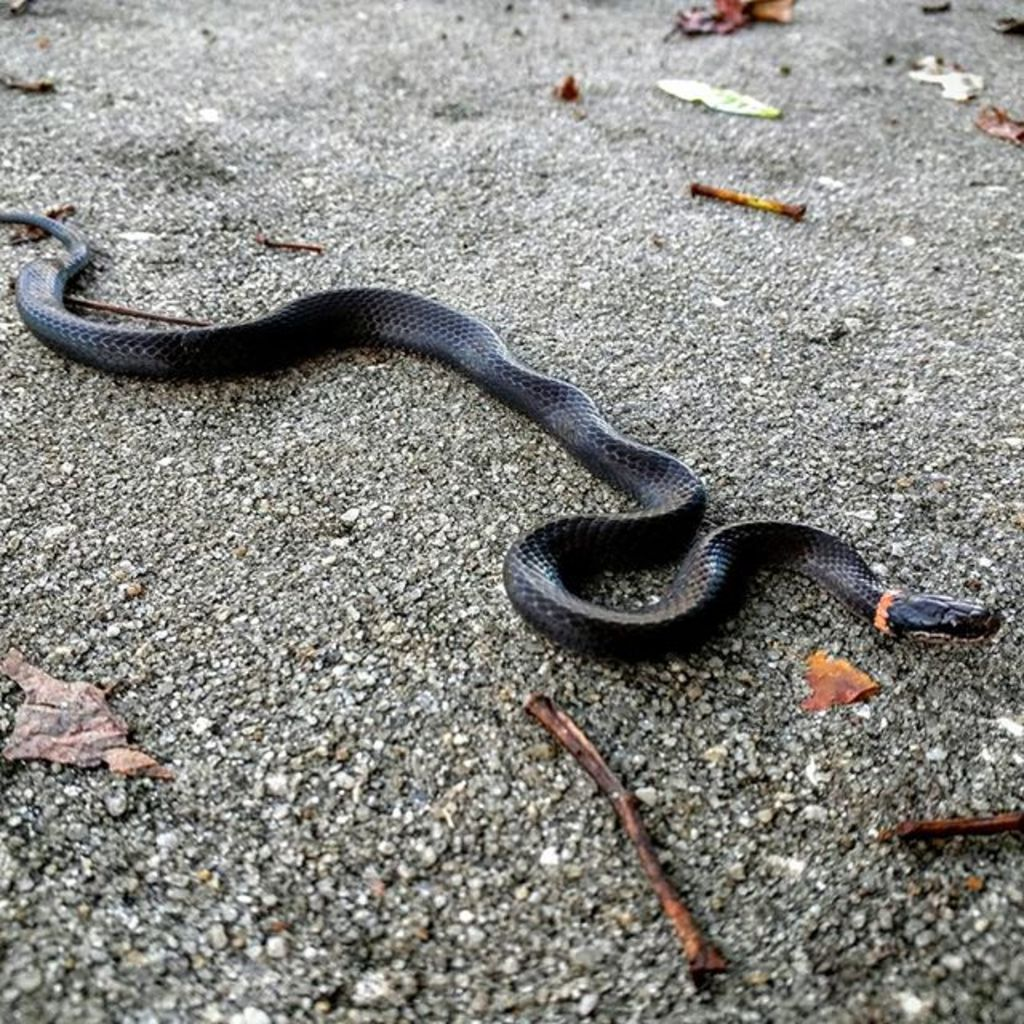person: (669, 0, 806, 35)
